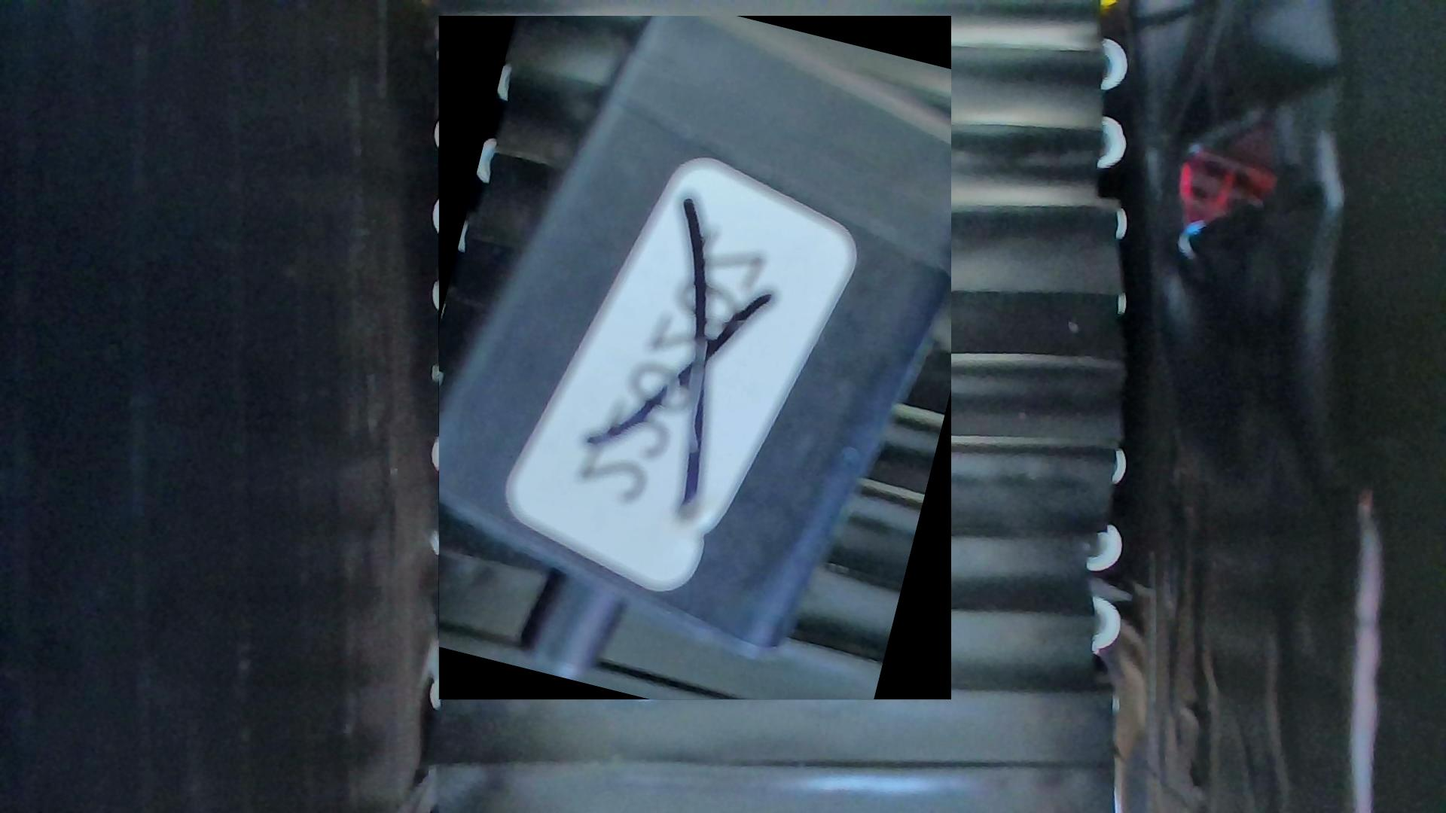motor: (438, 17, 951, 701)
